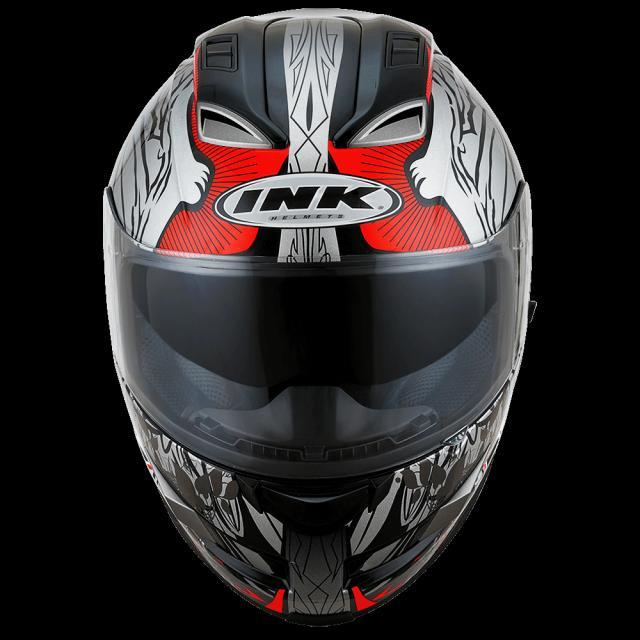Helm: (92, 5, 538, 633)
